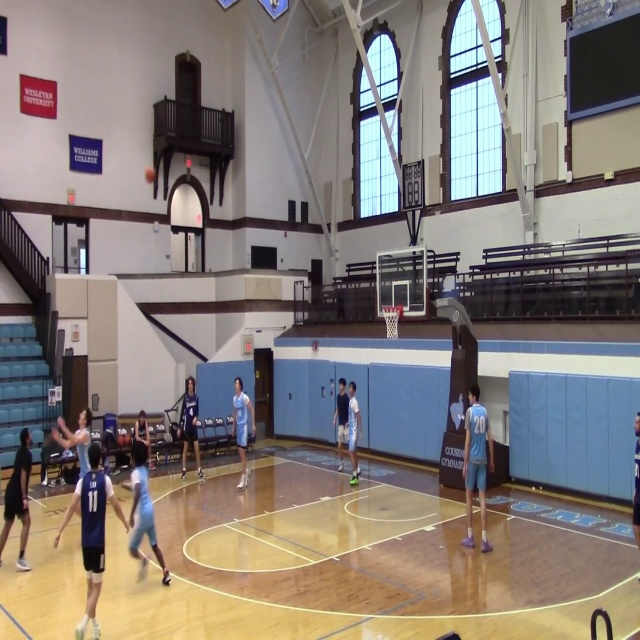Basketball: (75, 429, 91, 445), (117, 434, 130, 447), (145, 168, 155, 183)
